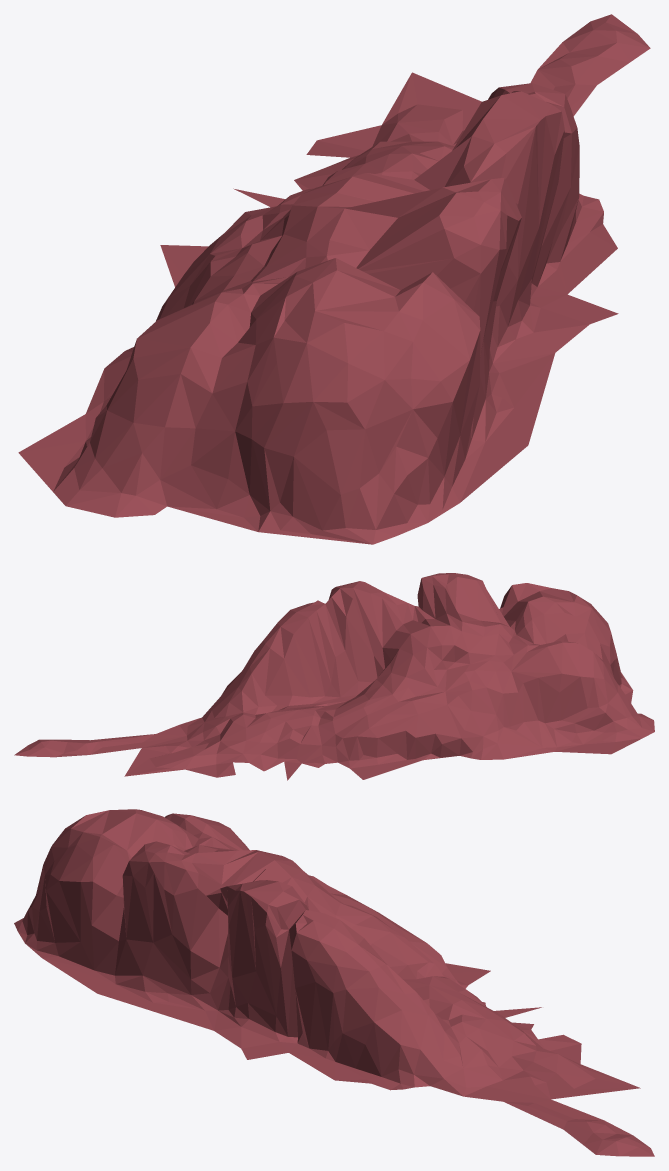
The model's file is Rock1.FBX.
3 renders of one model, top to bottom at view 1: azimuth 30°, elevation 25°; view 2: azimuth 150°, elevation 25°; view 3: azimuth 270°, elevation 25°, orthographic. The views are drawn at different scales.
Parts seen in each view (by area): view 1: terrain002; view 2: terrain002; view 3: terrain002.
Part boxes in pixels (box(x1,y1,x2,y2)): terrain002: box(18, 14, 650, 544); terrain002: box(14, 573, 654, 780); terrain002: box(14, 809, 654, 1156).
Bounding box in the file's own units: 433 × 102 × 397.
